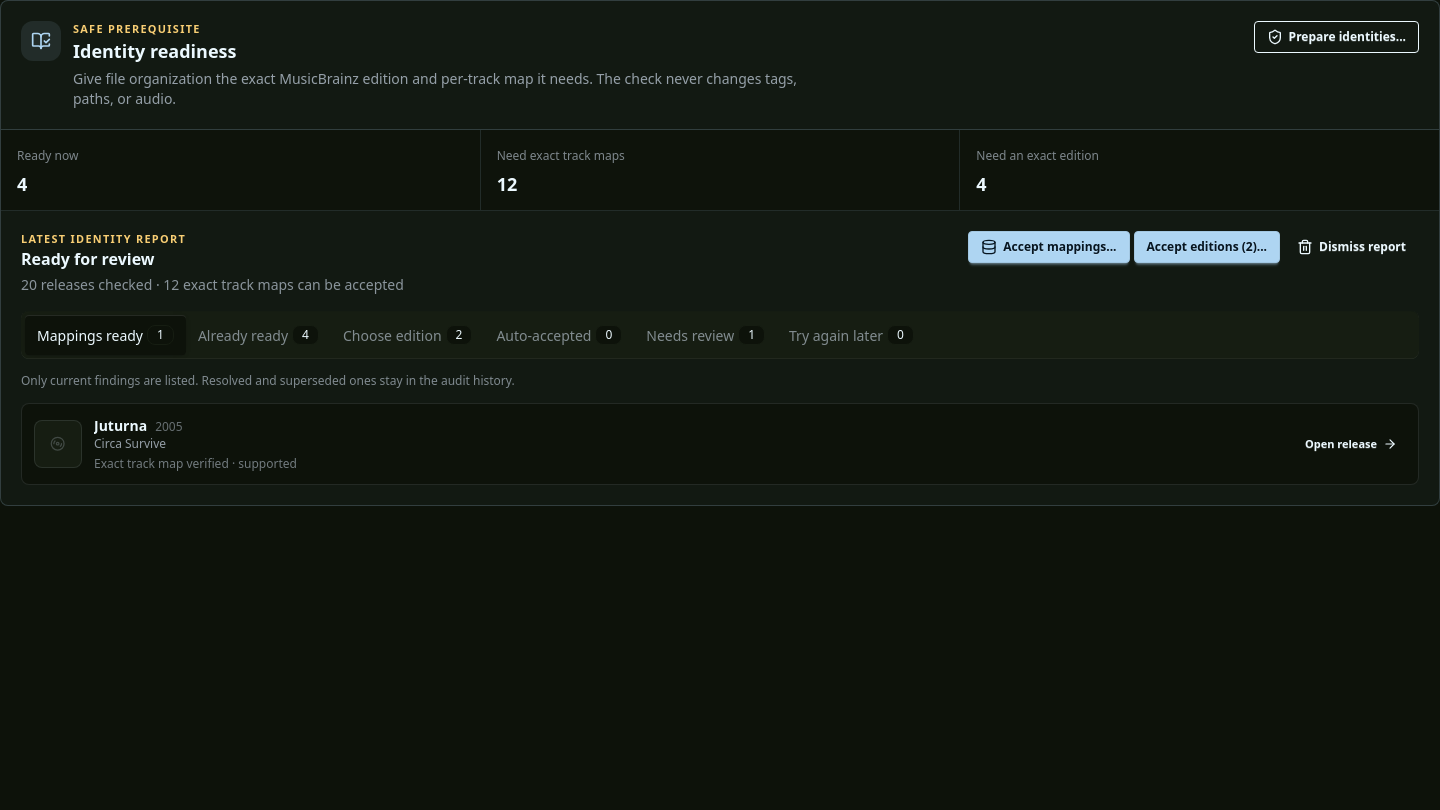
Scenario: LibraryManagementIdentityReadiness › opens the apply dialog from Accept editions listing both kinds
The image size is (1440, 810).
What coordinates should you click on to do the following:
click the button "Accept editions (2)..."
I would click on:
 (1207, 247)
Its box is [1134,231,1280,263].
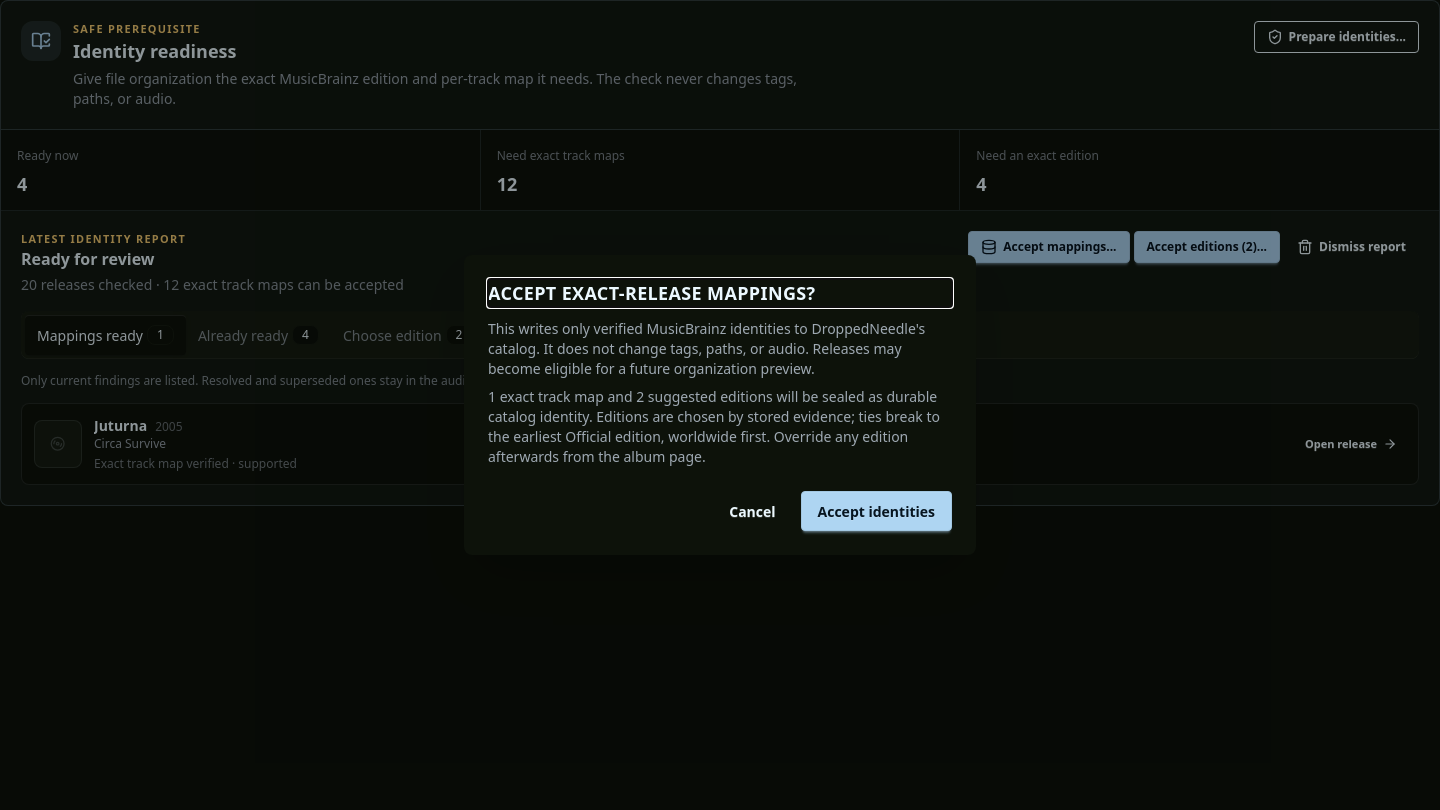
Expected: the text "1 exact track map and 2 suggested editions will be sealed" is shown, [488,387,940,466]
Expected: the button "Accept identities" is shown, [801,491,952,531]
